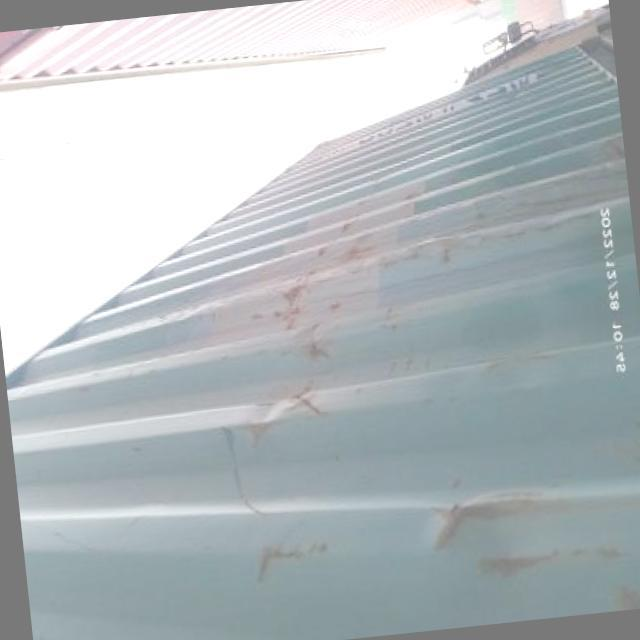rust: (255, 527, 338, 603), (441, 492, 530, 557), (274, 317, 326, 419), (323, 232, 391, 275)
